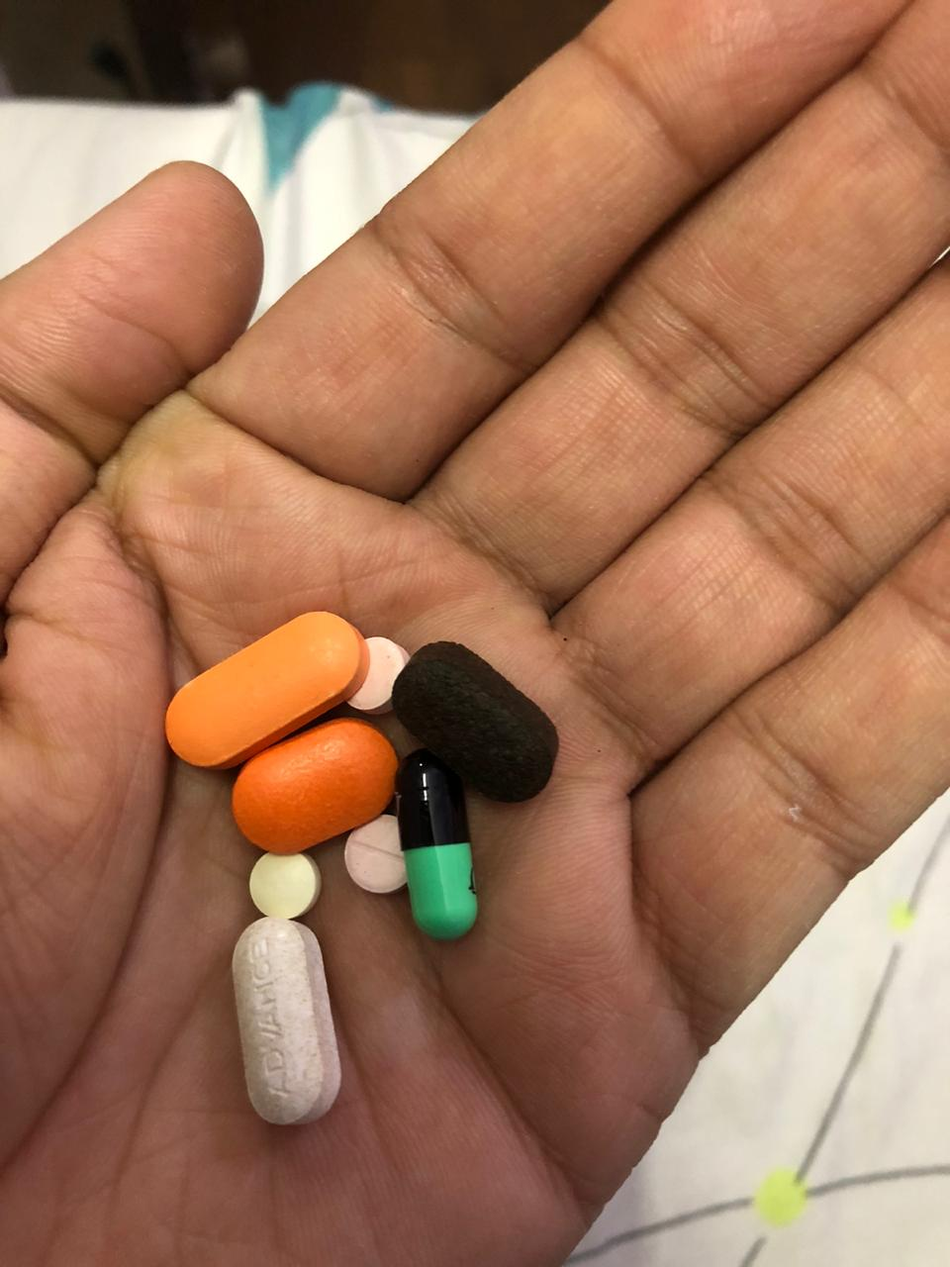tablets: (165, 611, 363, 763), (396, 641, 561, 799), (231, 914, 349, 1129), (234, 721, 395, 852), (392, 751, 479, 938), (344, 819, 413, 894), (348, 638, 408, 713), (248, 848, 316, 912)
